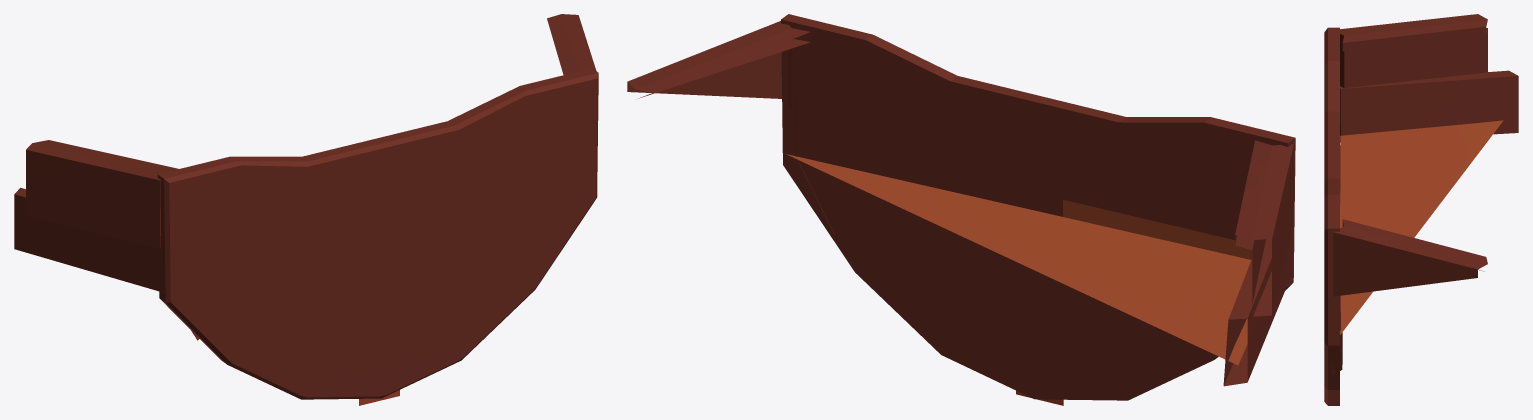
Rendered from BoatPart4.fbx.
The picture shows the model from 3 angles, left to right: view 1: azimuth 30°, elevation 25°; view 2: azimuth 150°, elevation 25°; view 3: azimuth 270°, elevation 25°; orthographic projection. The views are drawn at different scales.
Visible parts, largest first — view 1: Boat.003; view 2: Boat.003; view 3: Boat.003.
Part boxes in pixels (x1=…): Boat.003: x1=14, y1=14, x2=598, y2=405; Boat.003: x1=627, y1=14, x2=1295, y2=405; Boat.003: x1=1324, y1=14, x2=1518, y2=405.
Bounding box in the file's own units: 108 × 51.46 × 34.58.
